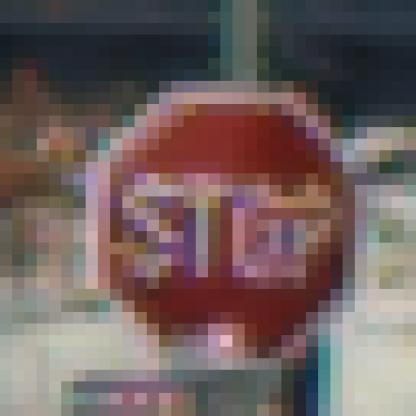Stop: (97, 88, 353, 354)
